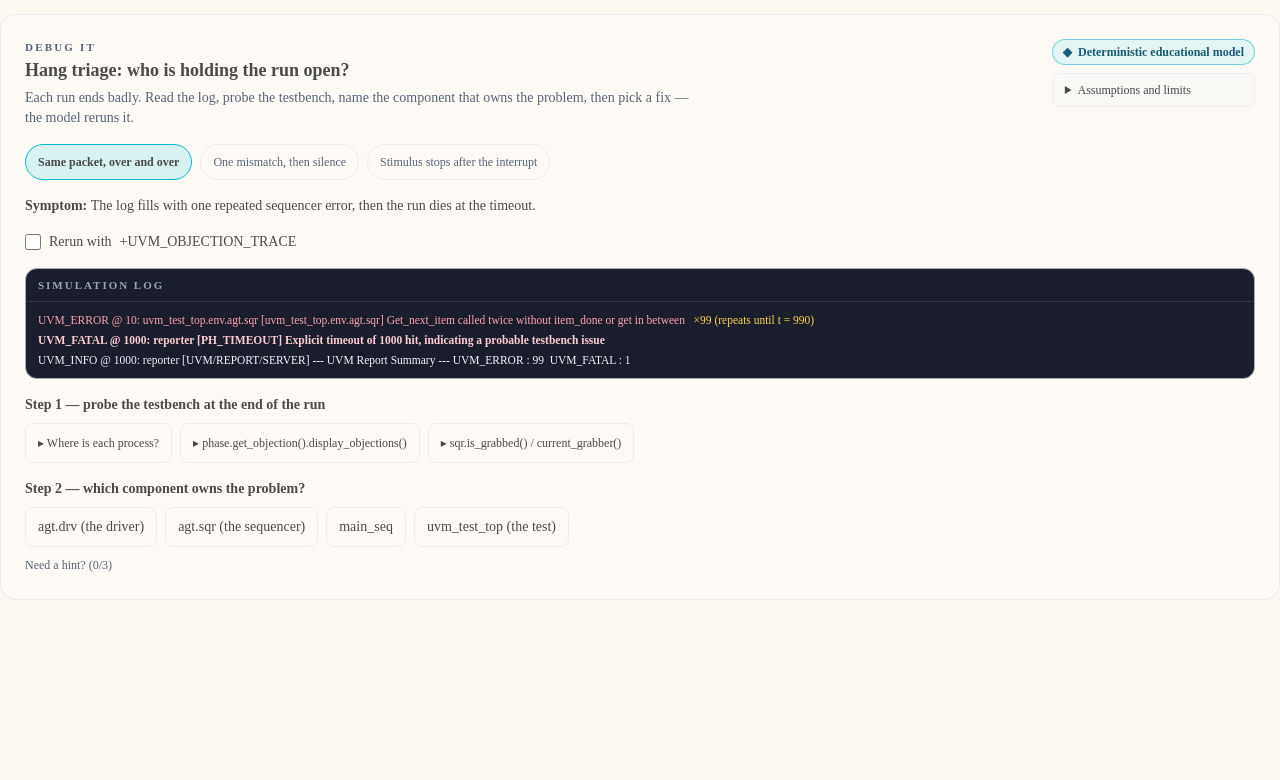
Scenario: DebuggingSimulator (hang triage) › the model reruns the chosen fix: a longer timeout still hangs, item_done ends cleanly
Click the button "agt.drv (the driver)". click: (91, 527)
box: top-left (25, 507), bottom-right (157, 547)
(page scrolled)
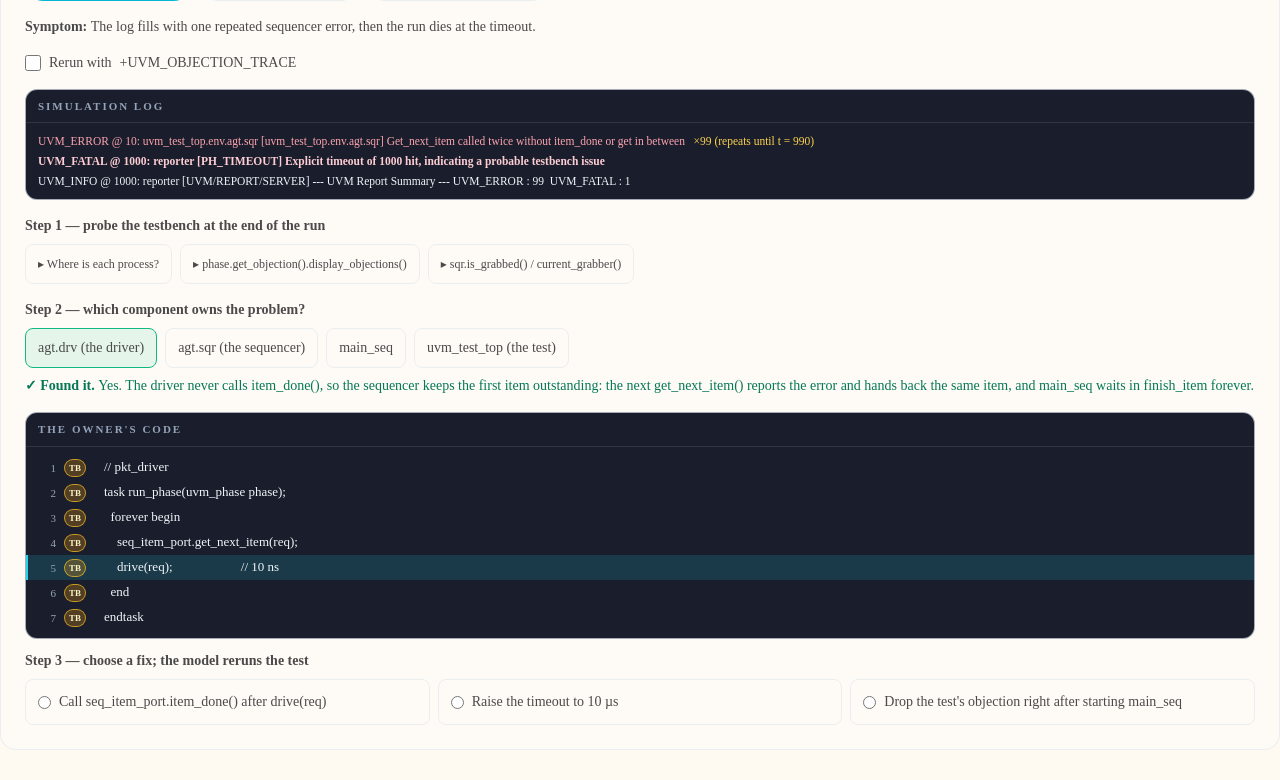
Click the radio button labelled "Raise the timeout to 10 µs". click: (457, 702)
box: top-left (451, 696), bottom-right (464, 708)
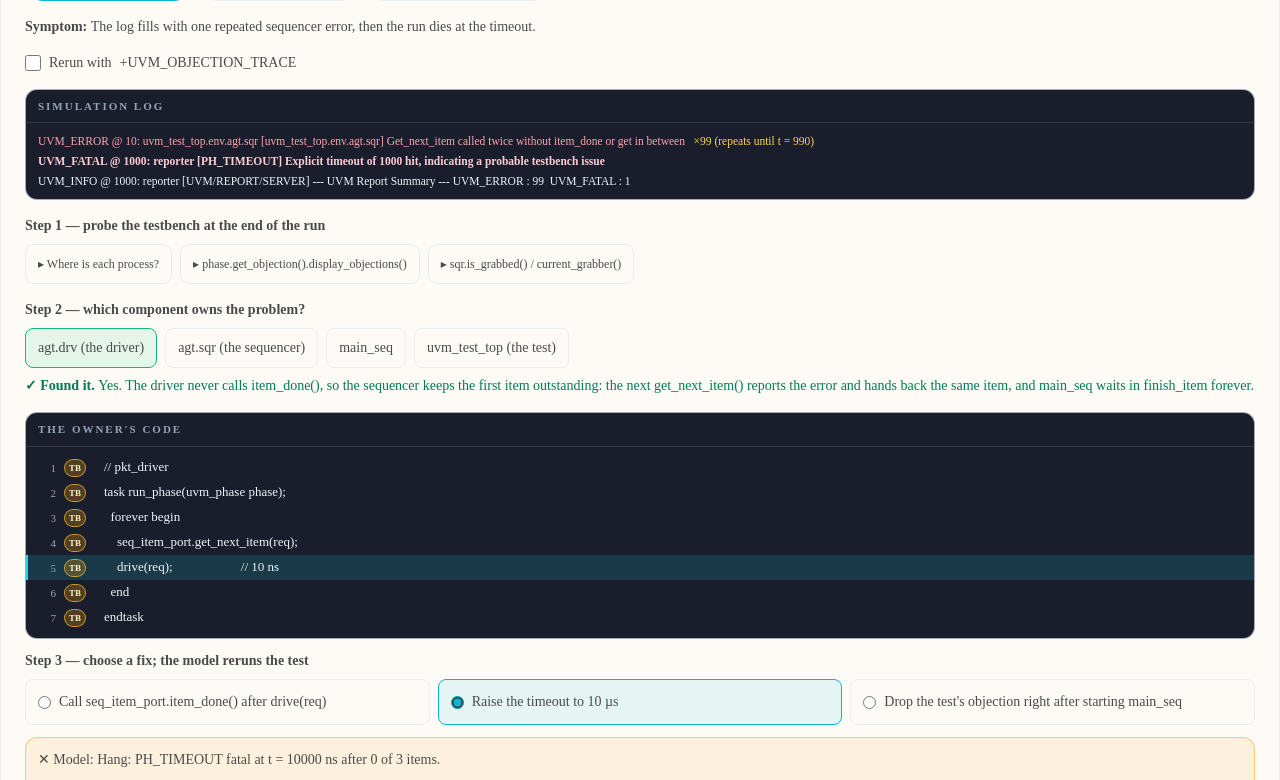
Result: the text "Hang: PH_TIMEOUT fatal at t = 10000 ns" is shown at top-left (97, 752), bottom-right (440, 766)
Click the radio button labelled "Call seq_item_port.item_done() after drive(req)". click: (44, 702)
box: top-left (38, 696), bottom-right (51, 708)
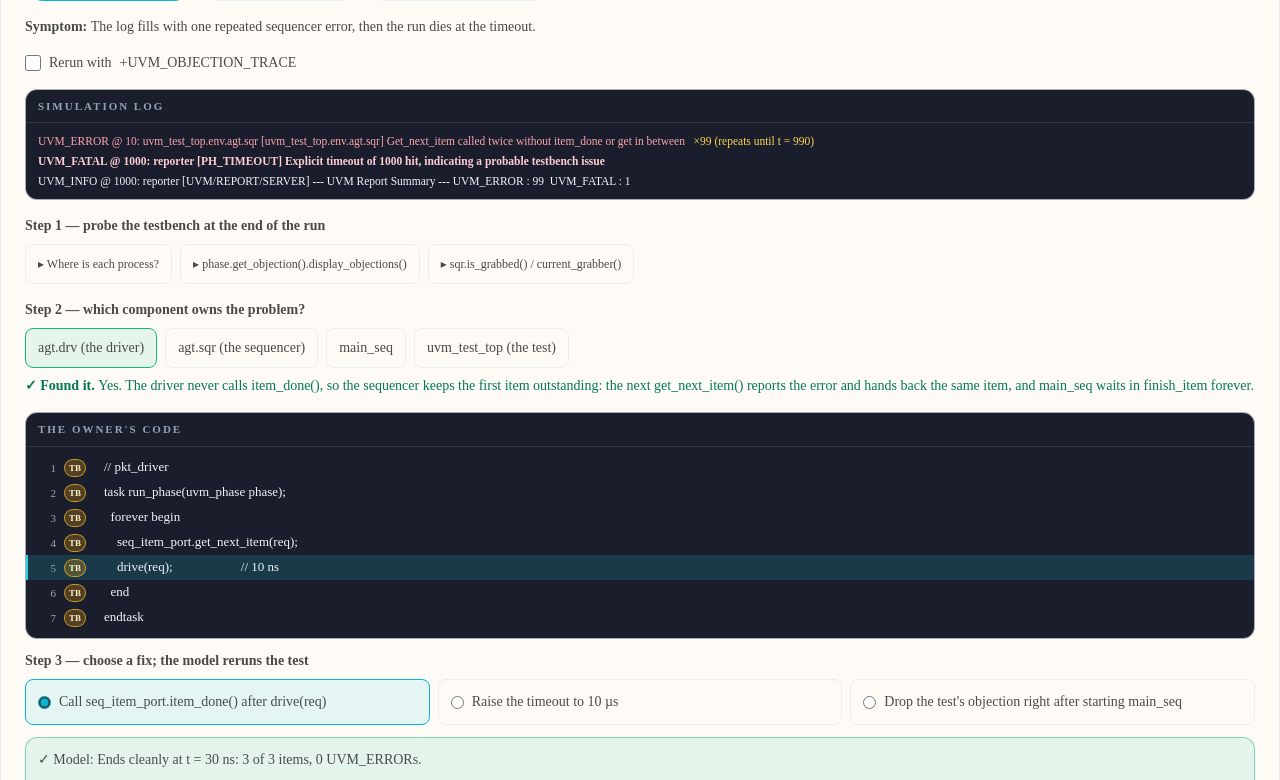
Result: the text "Ends cleanly at t = 30 ns: 3 of 3 items, 0 UVM_ERRORs" is shown at top-left (97, 752), bottom-right (422, 766)
